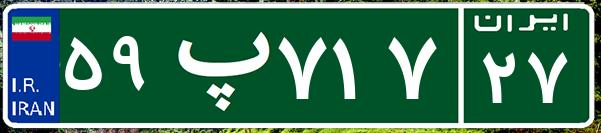1: (330, 28, 385, 110)
2: (475, 38, 525, 113)
5: (57, 26, 110, 107)
7: (385, 28, 445, 110), (273, 28, 330, 110), (525, 38, 570, 115)
9: (110, 28, 158, 105)
پ: (158, 15, 273, 115)
